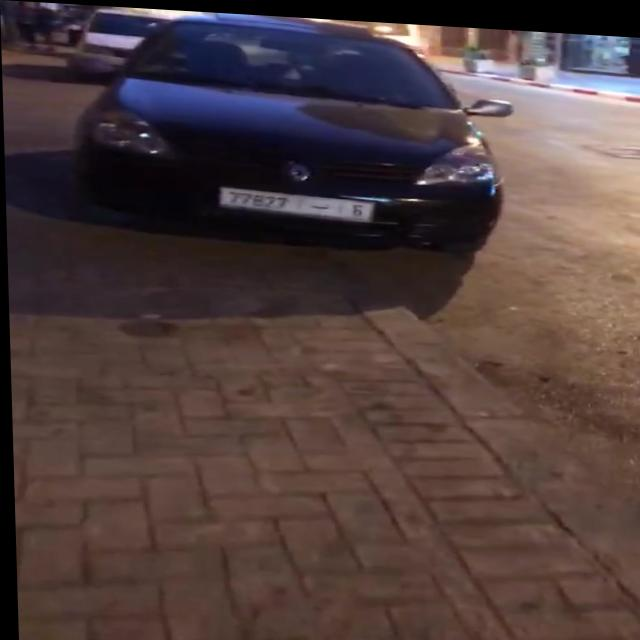License-Plate: (218, 184, 373, 218)
